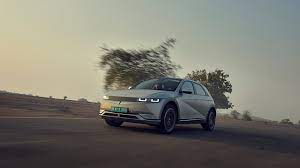Honda Ioniq: (93, 72, 226, 140)
